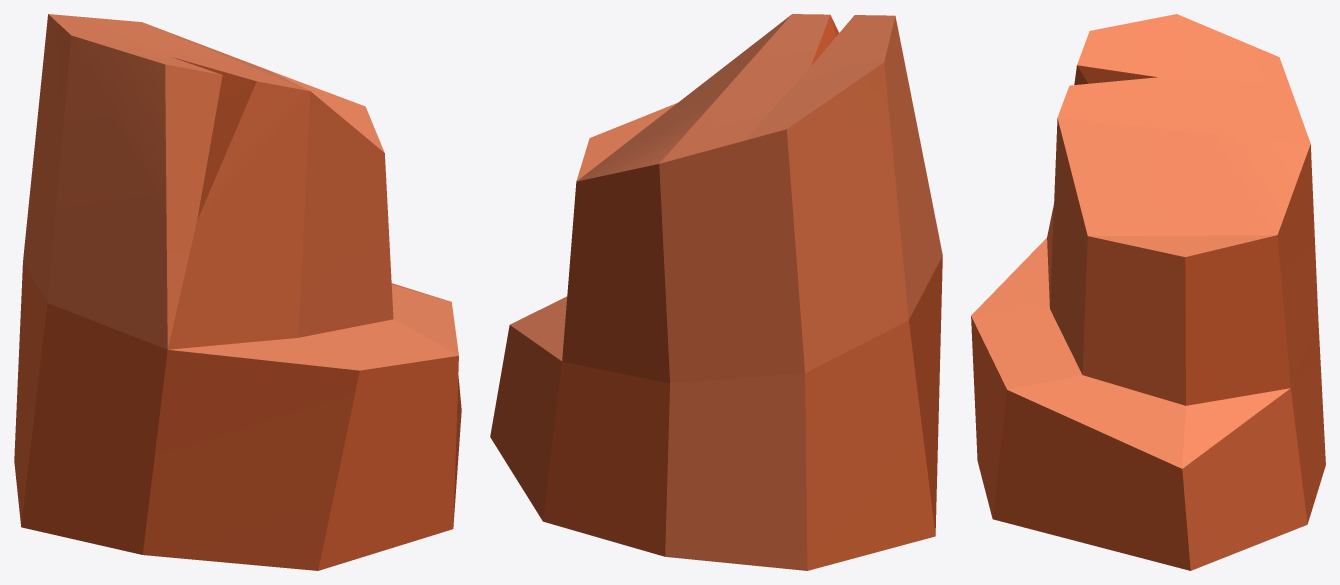
Rendered from rock_02.fbx.
3 renders of one model, left to right at view 1: azimuth 30°, elevation 25°; view 2: azimuth 150°, elevation 25°; view 3: azimuth 270°, elevation 25°, orthographic. The views are drawn at different scales.
Visible parts, largest first — view 1: rock_02; view 2: rock_02; view 3: rock_02.
Boxes of the visible parts, left/top/right/bottom form: rock_02: left=14, top=14, right=461, bottom=570; rock_02: left=490, top=14, right=942, bottom=570; rock_02: left=971, top=14, right=1325, bottom=570.
Bounding box in the file's own units: 662 × 679 × 546.
